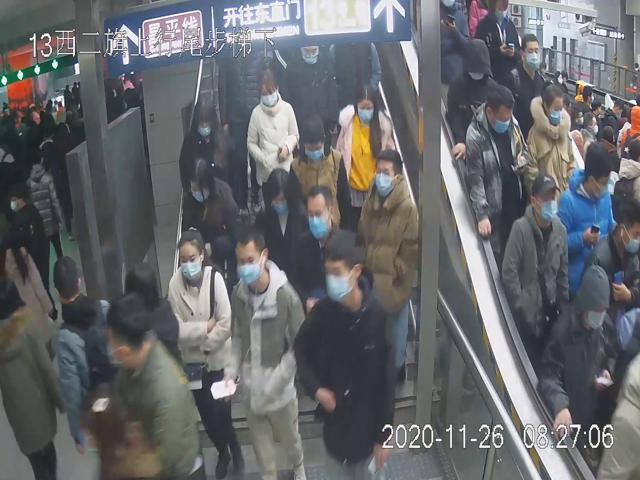person: (295, 230, 393, 480), (164, 226, 243, 480), (227, 227, 305, 480), (351, 146, 421, 416), (500, 169, 570, 348), (465, 80, 529, 275), (330, 80, 402, 222), (287, 107, 353, 244), (281, 180, 351, 309), (179, 152, 249, 272), (255, 161, 313, 300), (245, 63, 300, 202), (174, 97, 240, 201)
